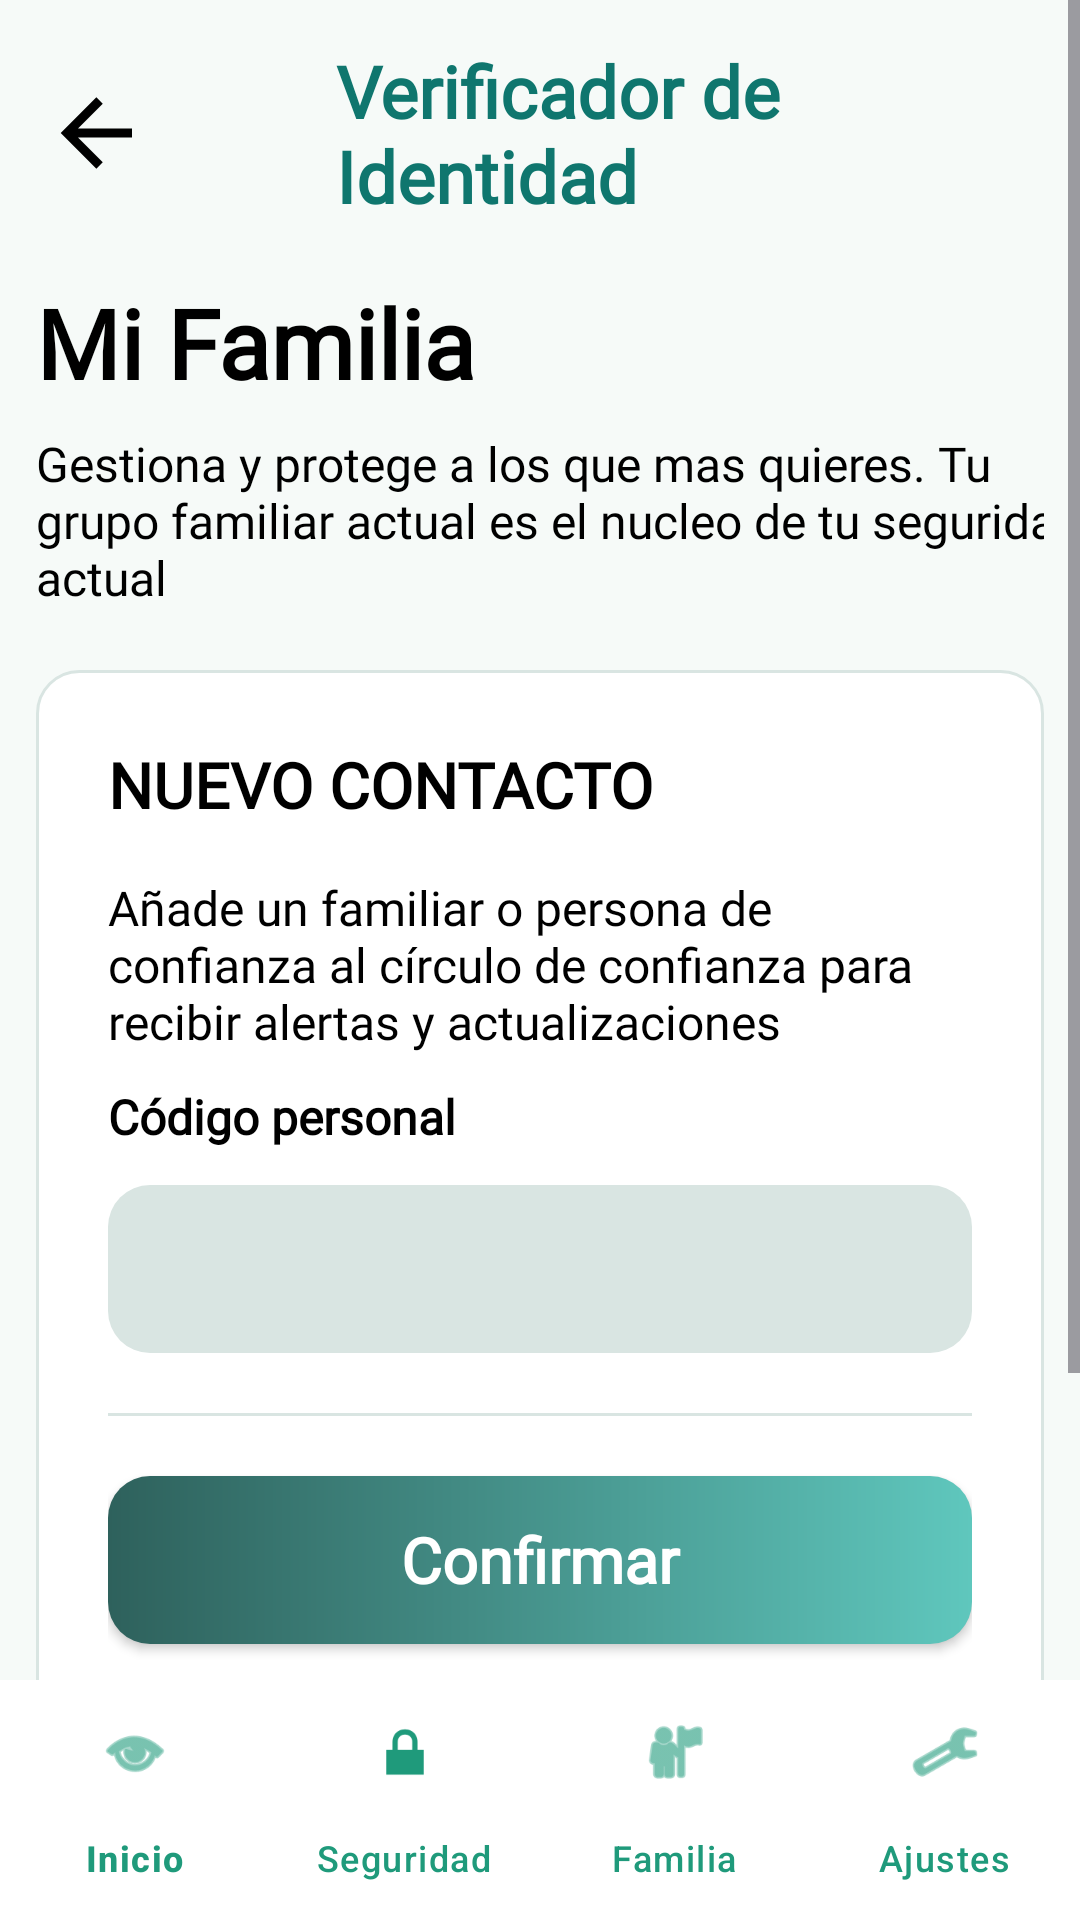

Where to tap for icons on this 1080px×1920px app screen, as (x,y):
Volver: (96,133)
